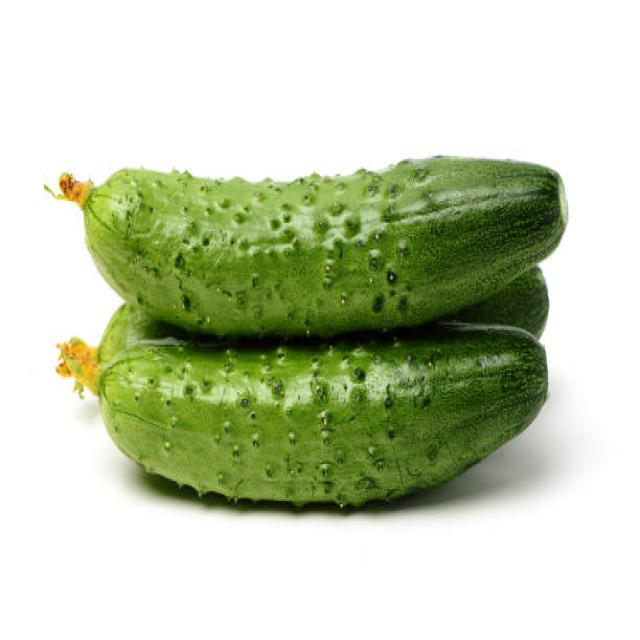cucumber: (84, 151, 568, 334), (98, 333, 549, 506)
